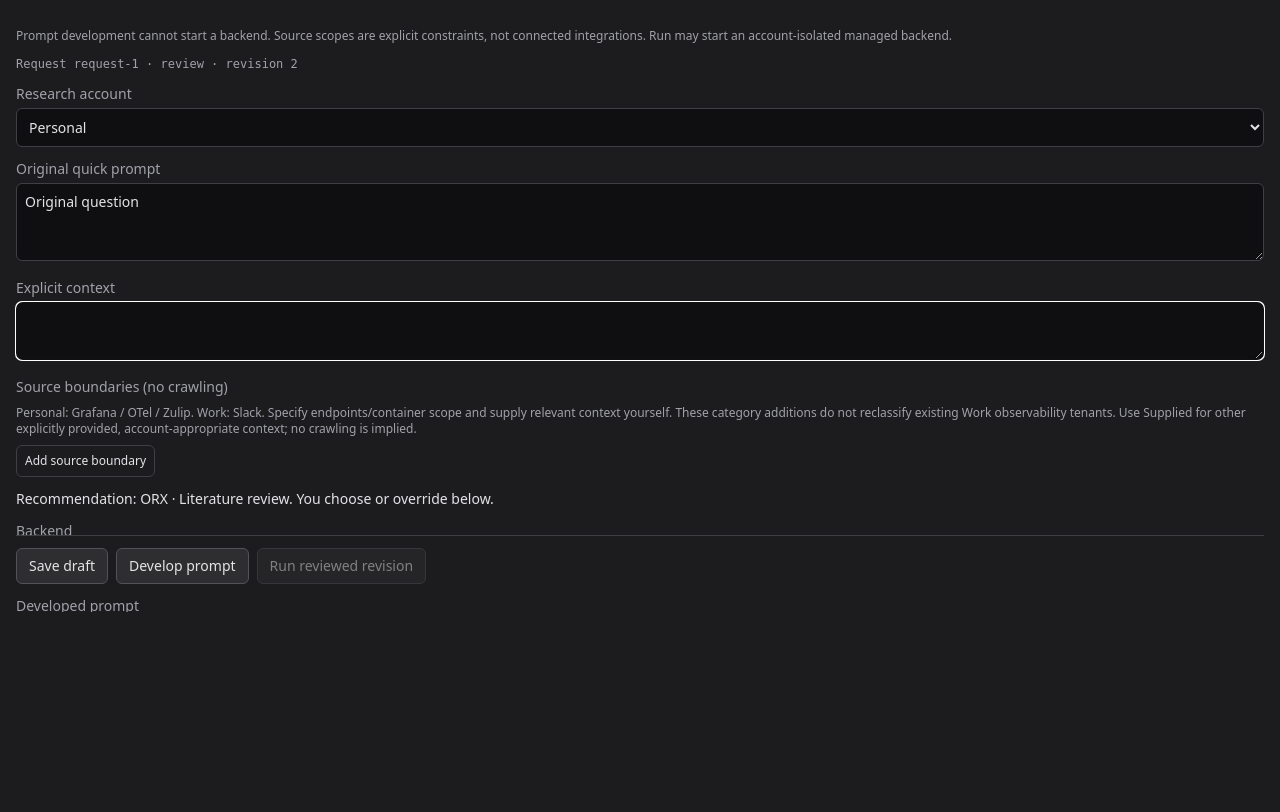
Scenario: does not develop after a rejected save and displays the server error
Click the button "Develop prompt" at (182, 566), box [116,548,248,584]
(page scrolled)
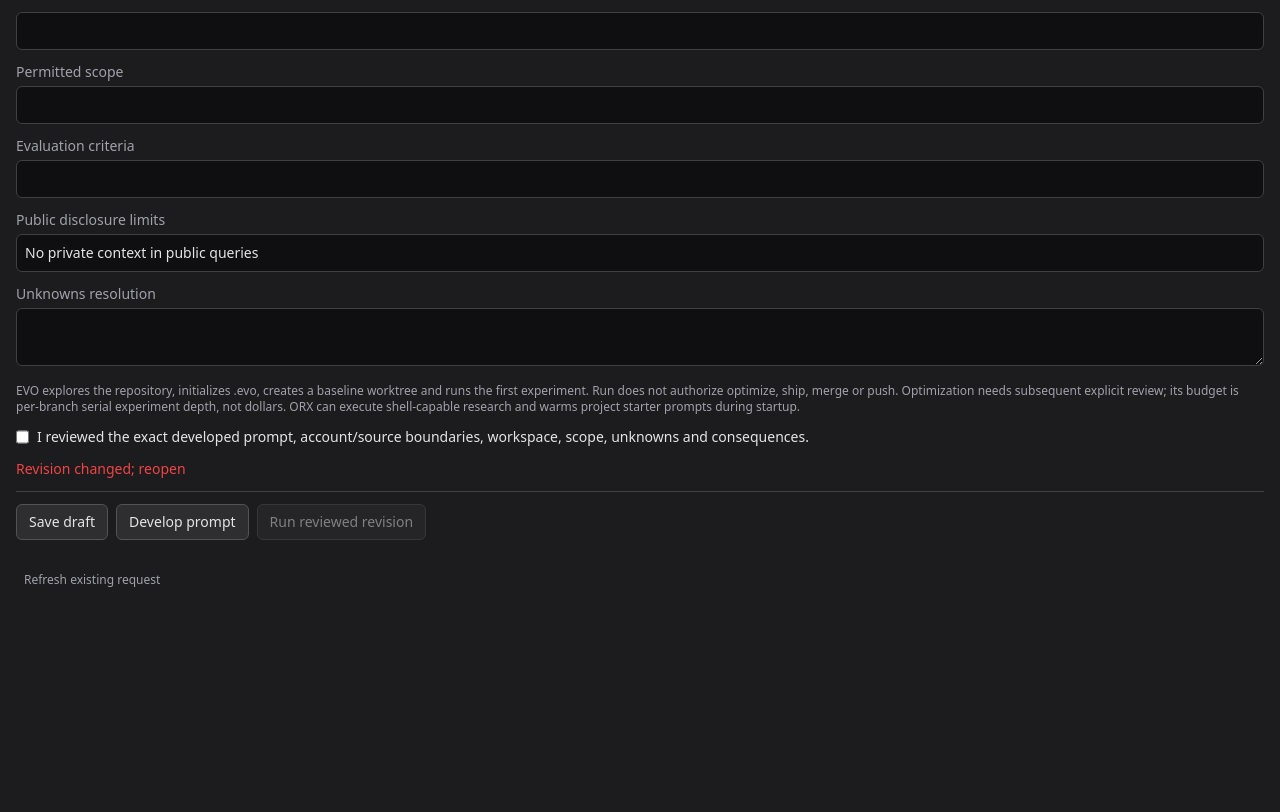
Check: the message shows "Revision changed", box [16,459,186,478]
